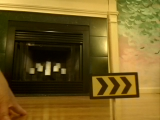right: (89, 73, 138, 97)
